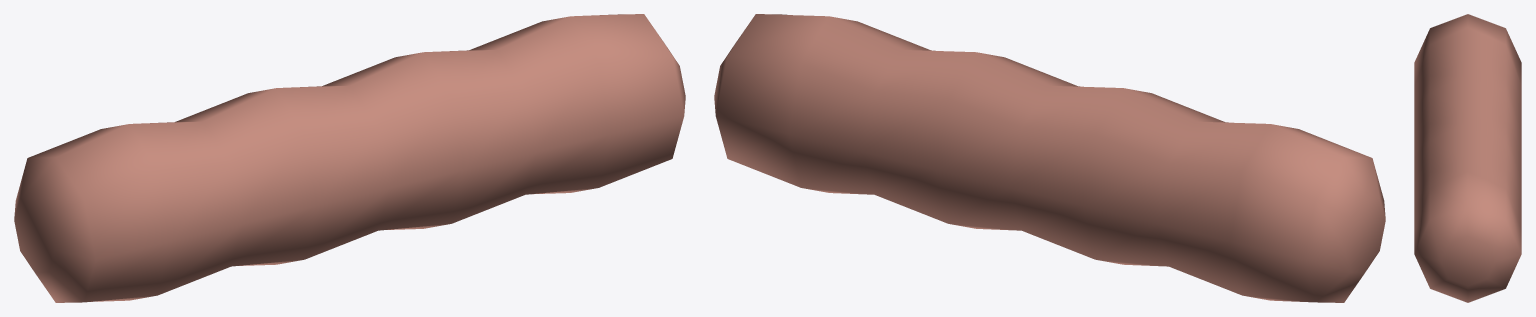
The model's file is rope_roll.fbx.
3 views of the same model, side by side, from view 1: azimuth 30°, elevation 25°; view 2: azimuth 150°, elevation 25°; view 3: azimuth 270°, elevation 25° (orthographic). The views are drawn at different scales.
Parts seen in each view (by area): view 1: rope_roll; view 2: rope_roll; view 3: rope_roll.
Part boxes in pixels (x1,y1,x2,y2): rope_roll: [14, 14, 685, 302]; rope_roll: [714, 14, 1385, 302]; rope_roll: [1414, 14, 1521, 302].
Bounding box in the file's own units: 83.81 × 22.44 × 18.47.
